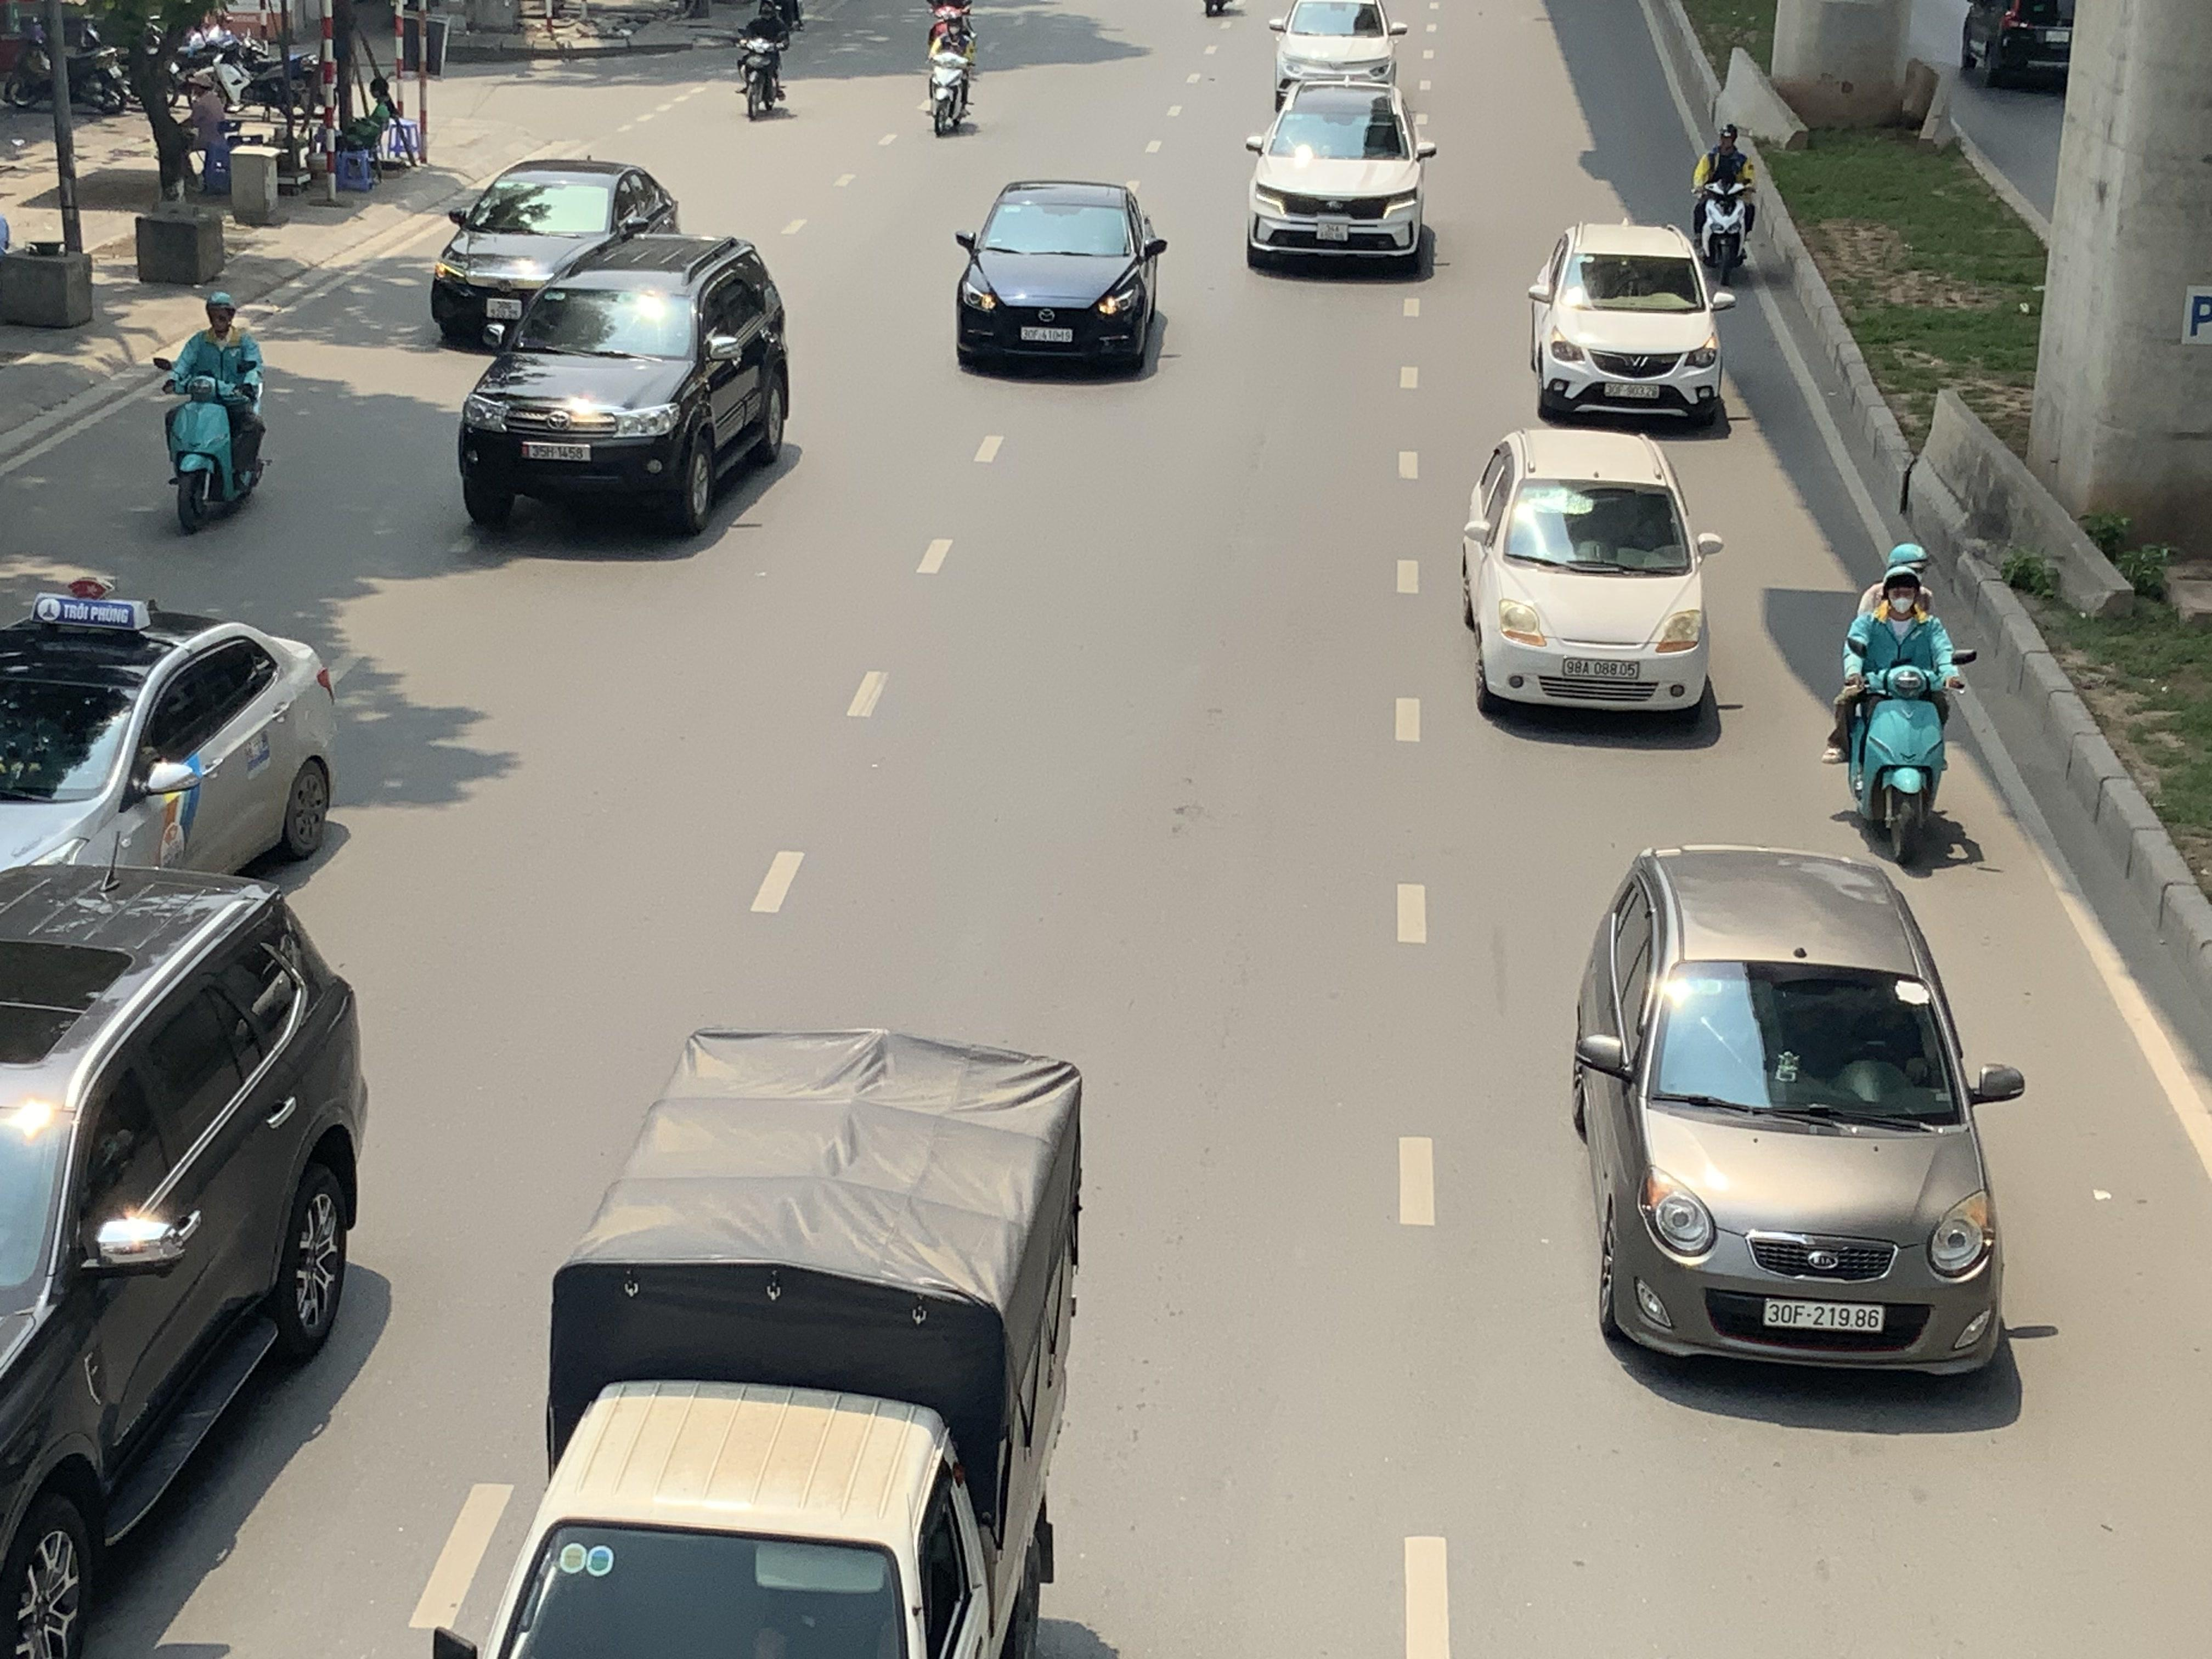BSD: (1763, 1300, 1885, 1331), (1562, 660, 1637, 680), (524, 443, 590, 460), (1021, 326, 1071, 343), (1606, 382, 1660, 397)
BSV: (486, 296, 523, 319), (1317, 223, 1346, 240)
car: (0, 866, 374, 1657), (1566, 843, 2027, 1384), (0, 596, 340, 969), (456, 232, 791, 538), (1456, 425, 1726, 727), (428, 157, 683, 352), (1526, 221, 1735, 429), (953, 179, 1169, 380), (1244, 85, 1439, 281), (1268, 0, 1407, 115), (1959, 0, 2081, 91)
motorbike: (1829, 544, 1972, 873), (157, 291, 270, 537), (1689, 124, 1759, 289), (735, 0, 792, 120), (925, 10, 977, 138), (927, 0, 975, 49)
truck: (481, 1011, 1078, 1659)
